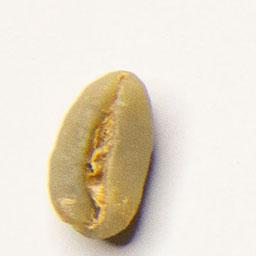longberry: (42, 65, 159, 243)
